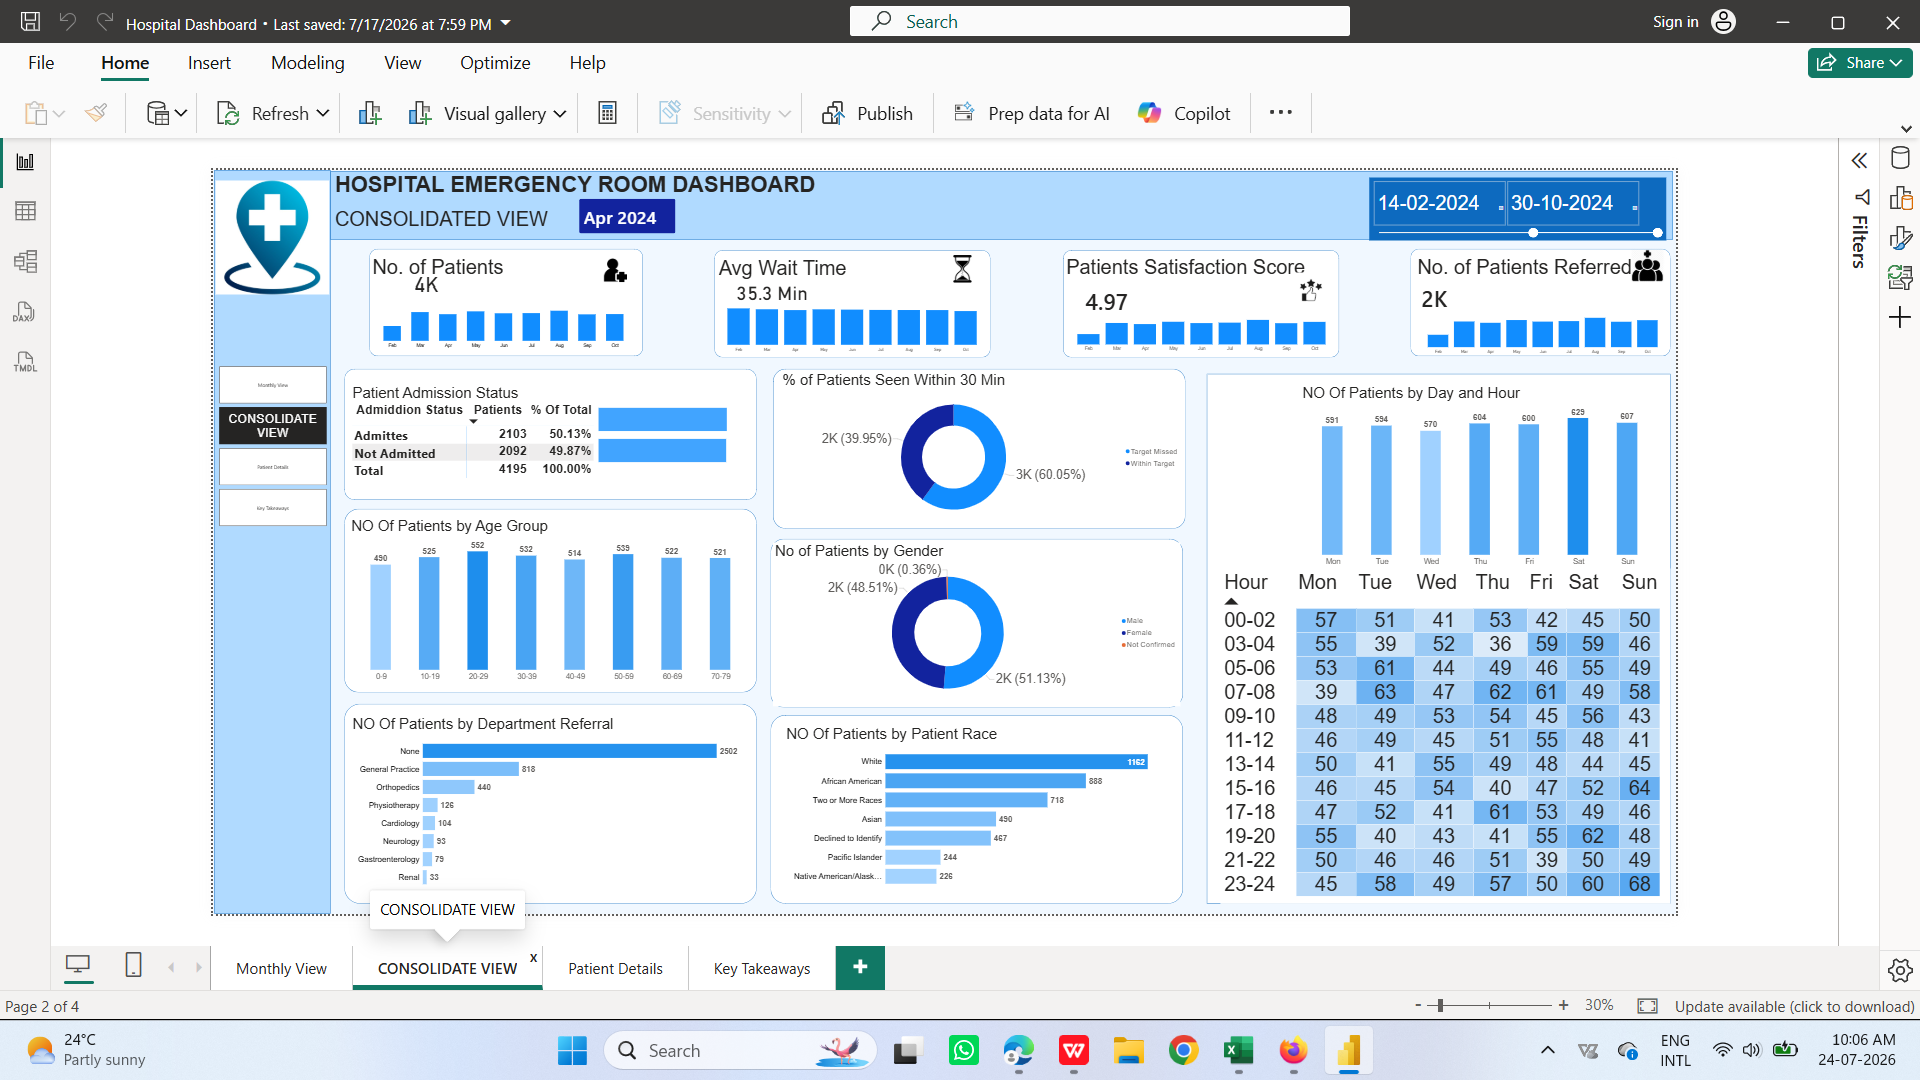

Layout of this report page (visuals, bound fields, positions):
{"tool":"powerbi","page":{"name":"CONSOLIDATE VIEW","canvas":[3900,1984],"ordinal":1},"visuals":[{"type":"shape","box":[416.7,210,730,286.7],"z":0},{"type":"shape","box":[313.3,3.3,3580,183.3],"z":1000},{"type":"textbox","box":[320,0,1573.3,143.3],"z":2000},{"type":"shape","box":[3.3,0,310,1983.3],"z":3000},{"type":"cardVisual","fields":{"Data":["Hospital ER_Data.NO Of Patients"]},"box":[443.3,240,253.3,126.7],"z":5000},{"type":"textbox","box":[320,96.7,640,76.7],"z":5500},{"type":"shape","box":[350,530,1100,350],"z":6000},{"type":"textbox","box":[420,223.3,363.3,76.7],"z":7000},{"type":"cardVisual","fields":{"Data":["Min(Date Table.Month & Year)"]},"box":[960,60,290,126.7],"z":8000},{"type":"shape","box":[1337.8,213.3,736.7,286.7],"z":9000},{"type":"shape","box":[3193.3,210,693.3,286.7],"z":10000},{"type":"shape","box":[2265.6,213.3,736.7,286.7],"z":11000},{"type":"textbox","box":[1343.3,226.7,363.3,76.7],"z":12000},{"type":"textbox","box":[2270,223.3,703.3,76.7],"z":13000},{"type":"textbox","box":[3206.7,223.3,603.3,76.7],"z":14000},{"type":"cardVisual","fields":{"Data":["Hospital ER_Data.No of Patient Referred"]},"box":[3193.3,276.7,226.7,126.7],"z":15000},{"type":"cardVisual","fields":{"Data":["Hospital ER_Data.Satisfaction Score"]},"box":[2296.7,283.3,253.3,126.7],"z":16000},{"type":"cardVisual","fields":{"Data":["Hospital ER_Data.Avg Wait Time"]},"box":[1366.7,263.3,253.3,126.7],"z":17000},{"type":"columnChart","fields":{"Category":["Date Table.Month Name"],"Y":["Hospital ER_Data.No of Patient Referred"]},"box":[3206.2,353.8,680,146.2],"z":18000},{"type":"columnChart","fields":{"Category":["Date Table.Month Name"],"Y":["Hospital ER_Data.No of Patient Referred"]},"box":[2270,363.3,733.3,130],"z":19000},{"type":"columnChart","fields":{"Category":["Date Table.Month Name"],"Y":["Avg(Hospital ER_Data.Patient Waittime)"]},"box":[1336.7,346.7,736.7,146.7],"z":20000},{"type":"pivotTable","title":"Patient Admission Status","fields":{"Rows":["Hospital ER_Data.Admiddion Status"],"Values":["Hospital ER_Data.NO Of Patients1","Divide(Hospital ER_Data.NO Of Patients, ScopedEval(Hospital ER_Data.NO Of Patients, []))"]},"box":[366.7,570,1043.3,296.7],"z":21000},{"type":"barChart","fields":{"Category":["Hospital ER_Data.Admiddion Status"],"Y":["Hospital ER_Data.NO Of Patients"]},"box":[1023.3,580,416.7,250],"z":22000},{"type":"shape","box":[350,903.3,1100,490],"z":23000},{"type":"clusteredColumnChart","fields":{"Category":["Hospital ER_Data.Age Group"],"Y":["Hospital ER_Data.NO Of Patients"]},"box":[363.3,926.7,1076.7,443.3],"z":24000},{"type":"shape","box":[350,1423.3,1100,533.3],"z":25000},{"type":"shape","box":[1486.7,983.3,1100,450],"z":26000},{"type":"clusteredBarChart","fields":{"Category":["Hospital ER_Data.Department Referral"],"Y":["Hospital ER_Data.NO Of Patients"]},"box":[366.7,1453.3,1043.3,476.7],"z":27000},{"type":"shape","box":[1493.3,530,1100,426.7],"z":28000},{"type":"shape","box":[2650,543.3,1236.7,1413.3],"z":29000},{"type":"donutChart","title":"% of Patients Seen Within 30 Min","fields":{"Category":["Hospital ER_Data.Waittime Status"],"Y":["Hospital ER_Data.NO Of Patients"]},"box":[1513.3,536.7,1073.3,413.3],"z":30000},{"type":"donutChart","title":"No of Patients by Gender","fields":{"Category":["Hospital ER_Data.Patient Gender"],"Y":["Hospital ER_Data.NO Of Patients"]},"box":[1493.3,993.3,1086.7,436.7],"z":31000},{"type":"shape","box":[1486.7,1453.3,1100,503.3],"z":32000},{"type":"clusteredBarChart","fields":{"Category":["Hospital ER_Data.Patient Race"],"Y":["Hospital ER_Data.NO Of Patients"]},"box":[1523.3,1480,1026.7,450],"z":33000},{"type":"pivotTable","fields":{"Columns":["Date Table.Day Name"],"Rows":["Hospital ER_Data.Waittime Interval"],"Values":["Hospital ER_Data.NO Of Patients"]},"box":[2686.7,1063.3,1200,893.3],"z":34000},{"type":"columnChart","title":"NO Of Patients by Day and Hour","fields":{"Category":["Date Table.Day Name"],"Y":["Hospital ER_Data.NO Of Patients"]},"box":[2900,570,960,493.3],"z":35000},{"type":"slicer","fields":{"Values":["Date Table.Date"]},"box":[3083.3,20,790,166.7],"z":36000},{"type":"columnChart","fields":{"Category":["Date Table.Month Name"],"Y":["Hospital ER_Data.NO Of Patients"]},"box":[420,340,711.2,143.8],"z":37000},{"type":"pageNavigator","box":[16.7,523.3,286.7,426.7],"z":38000},{"type":"image","box":[6.7,0,303.3,360],"z":38001},{"type":"image","box":[996.7,230,150,73.3],"z":38002},{"type":"image","box":[1923.3,226.7,150,73.3],"z":38003},{"type":"image","box":[2853.3,273.3,150,93.3],"z":38004},{"type":"image","box":[3750,210,150,90],"z":38005}]}

Visuals, with their boxes on the page's 3900x1984 design canvas (x1, y1, x2, y2). These are canvas units, not pixel positions in the 1920x1080 screenshot, which may show the page scaled, cropped or inside an application window:
shape: [417,210,1147,497]
shape: [313,3,3893,187]
textbox: [320,0,1893,143]
shape: [3,0,313,1983]
cardVisual - Hospital ER_Data.NO Of Patients: [443,240,697,367]
textbox: [320,97,960,173]
shape: [350,530,1450,880]
textbox: [420,223,783,300]
cardVisual - Min(Date Table.Month & Year): [960,60,1250,187]
shape: [1338,213,2074,500]
shape: [3193,210,3887,497]
shape: [2266,213,3002,500]
textbox: [1343,227,1707,303]
textbox: [2270,223,2973,300]
textbox: [3207,223,3810,300]
cardVisual - Hospital ER_Data.No of Patient Referred: [3193,277,3420,403]
cardVisual - Hospital ER_Data.Satisfaction Score: [2297,283,2550,410]
cardVisual - Hospital ER_Data.Avg Wait Time: [1367,263,1620,390]
columnChart - Date Table.Month Name x Hospital ER_Data.No of Patient Referred: [3206,354,3886,500]
columnChart - Date Table.Month Name x Hospital ER_Data.No of Patient Referred: [2270,363,3003,493]
columnChart - Date Table.Month Name x Avg(Hospital ER_Data.Patient Waittime): [1337,347,2073,493]
"Patient Admission Status" pivotTable: [367,570,1410,867]
barChart - Hospital ER_Data.Admiddion Status x Hospital ER_Data.NO Of Patients: [1023,580,1440,830]
shape: [350,903,1450,1393]
clusteredColumnChart - Hospital ER_Data.Age Group x Hospital ER_Data.NO Of Patients: [363,927,1440,1370]
shape: [350,1423,1450,1957]
shape: [1487,983,2587,1433]
clusteredBarChart - Hospital ER_Data.Department Referral x Hospital ER_Data.NO Of Patients: [367,1453,1410,1930]
shape: [1493,530,2593,957]
shape: [2650,543,3887,1957]
"% of Patients Seen Within 30 Min" donutChart: [1513,537,2587,950]
"No of Patients by Gender" donutChart: [1493,993,2580,1430]
shape: [1487,1453,2587,1957]
clusteredBarChart - Hospital ER_Data.Patient Race x Hospital ER_Data.NO Of Patients: [1523,1480,2550,1930]
pivotTable - Date Table.Day Name x Hospital ER_Data.Waittime Interval: [2687,1063,3887,1957]
"NO Of Patients by Day and Hour" columnChart: [2900,570,3860,1063]
slicer - Date Table.Date: [3083,20,3873,187]
columnChart - Date Table.Month Name x Hospital ER_Data.NO Of Patients: [420,340,1131,484]
pageNavigator: [17,523,303,950]
image: [7,0,310,360]
image: [997,230,1147,303]
image: [1923,227,2073,300]
image: [2853,273,3003,367]
image: [3750,210,3900,300]
